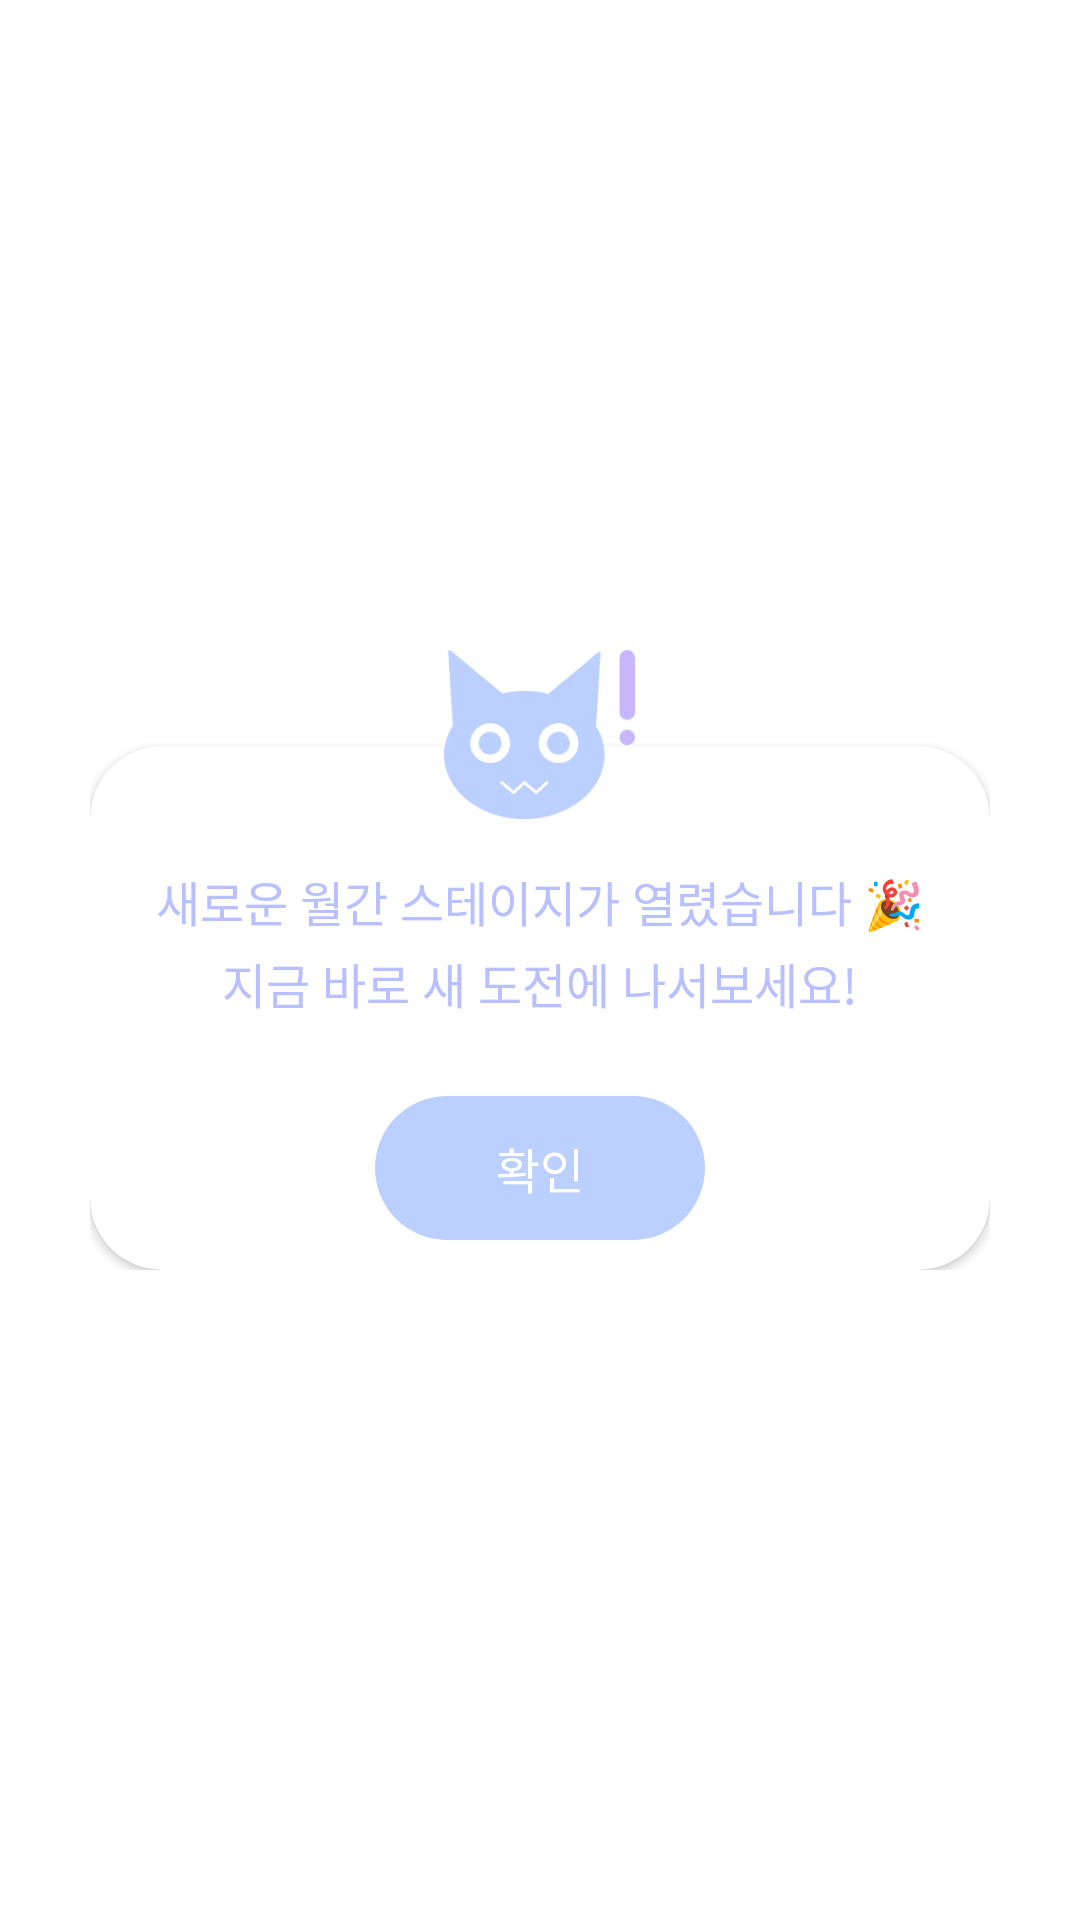

Where to tap for icons on this 1080x1920 app screen, as point (x, y):
cat wow: point (539, 734)
